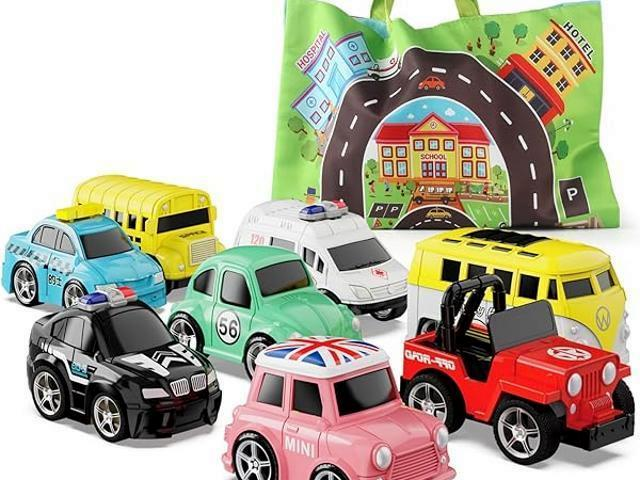toy-car: (399, 273, 636, 466), (222, 336, 457, 480), (27, 287, 223, 443), (407, 227, 630, 364), (167, 245, 363, 381), (233, 200, 410, 321), (72, 175, 226, 295), (1, 202, 168, 309)
